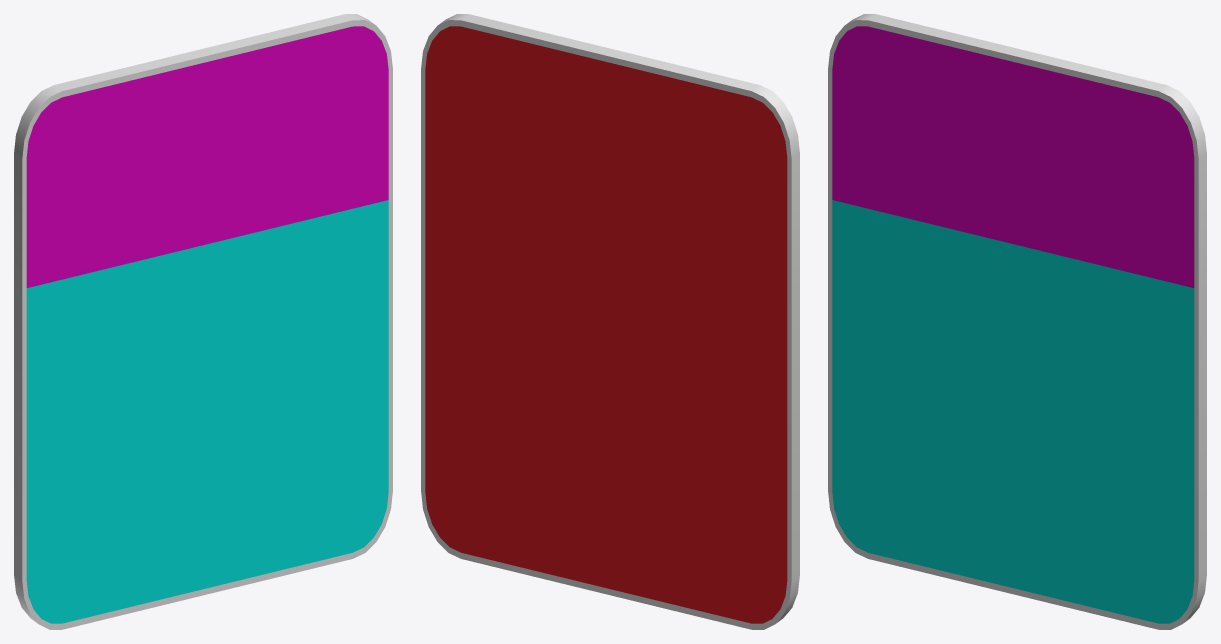
The model's file is Final Player Card.fbx.
3 views of the same model, side by side, from view 1: azimuth 30°, elevation 25°; view 2: azimuth 150°, elevation 25°; view 3: azimuth 330°, elevation 25° (orthographic).
Parts seen in each view (by area): view 1: Cube; view 2: Cube; view 3: Cube.
Boxes of the visible parts, x1,y1,x2,y2 form: Cube: (14, 14, 392, 629); Cube: (421, 14, 799, 629); Cube: (828, 14, 1206, 629).
Bounding box in the file's own units: 360 × 500 × 14.
